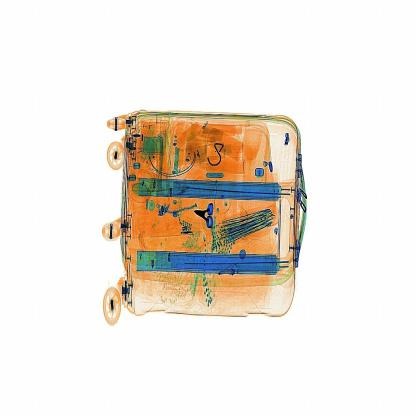gun: (188, 199, 223, 241)
